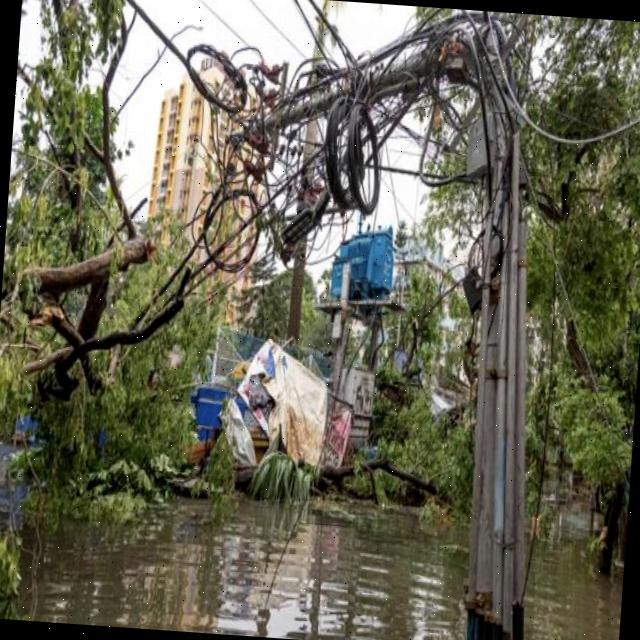Broken Pole: (158, 9, 529, 640)
